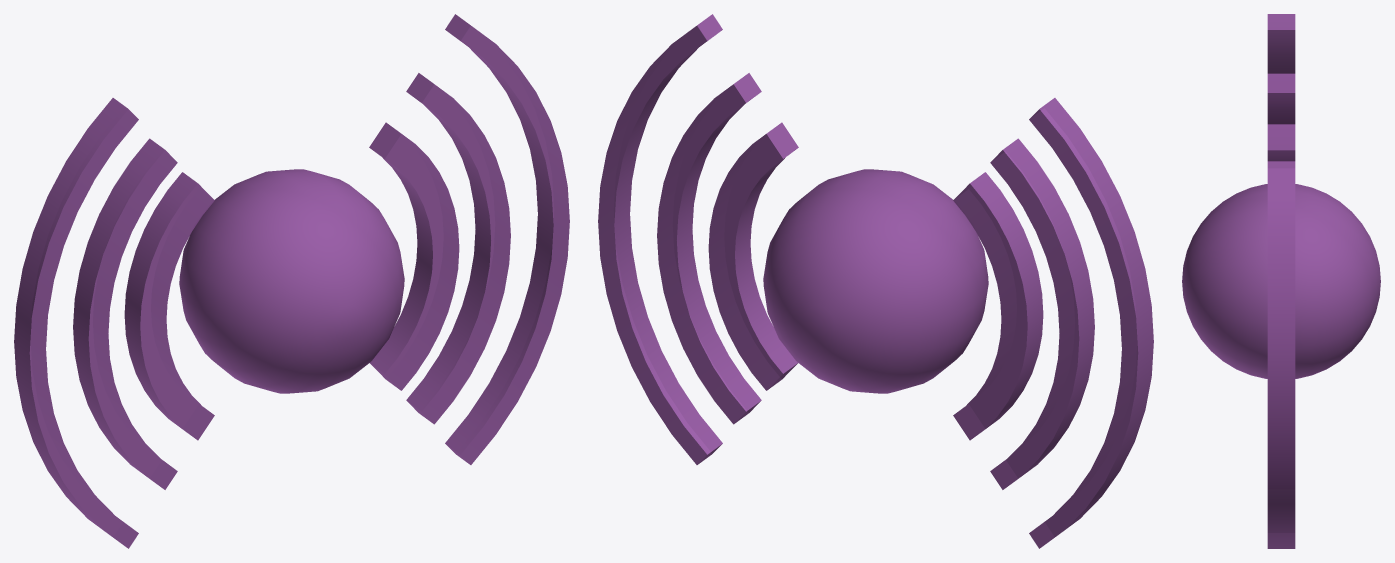
File: Powerup_Shockwave 1.fbx
The picture shows the model from 3 angles, left to right: view 1: azimuth 30°, elevation 25°; view 2: azimuth 150°, elevation 25°; view 3: azimuth 270°, elevation 25°; orthographic projection. The views are drawn at different scales.
Visible parts, largest first — view 1: model_powerup_shockwave; view 2: model_powerup_shockwave; view 3: model_powerup_shockwave.
Boxes of the visible parts, x1,y1,x2,y2 form: model_powerup_shockwave: [14, 14, 569, 548]; model_powerup_shockwave: [598, 14, 1153, 548]; model_powerup_shockwave: [1182, 14, 1380, 548].
Size of the model in its own units: 14.75 by 11.48 by 5.34.
